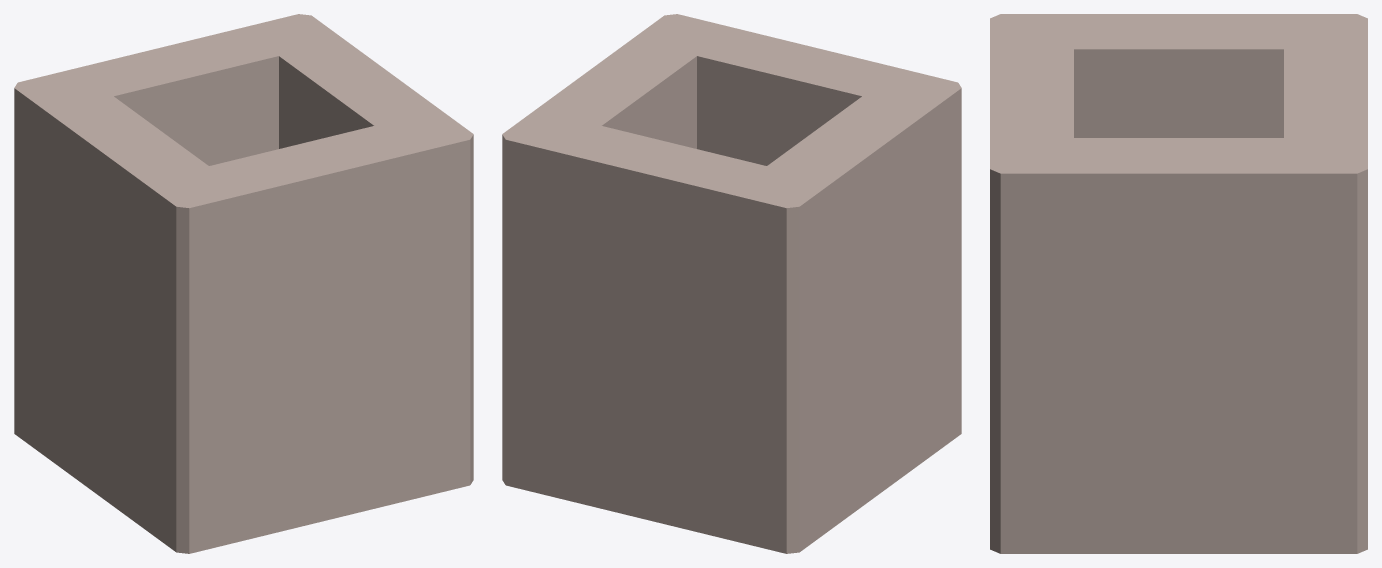
Rendered from Prop_Fireplace_Mid.obj.
3 renders of one model, left to right at view 1: azimuth 30°, elevation 25°; view 2: azimuth 150°, elevation 25°; view 3: azimuth 270°, elevation 25°, orthographic. The views are drawn at different scales.
Visible parts, largest first — view 1: object1; view 2: object1; view 3: object1.
Part boxes in pixels (x1=…): object1: x1=14, y1=14, x2=473, y2=553; object1: x1=502, y1=14, x2=961, y2=553; object1: x1=990, y1=14, x2=1367, y2=553.
Bounding box in the file's own units: 0.9 × 1 × 0.9.
